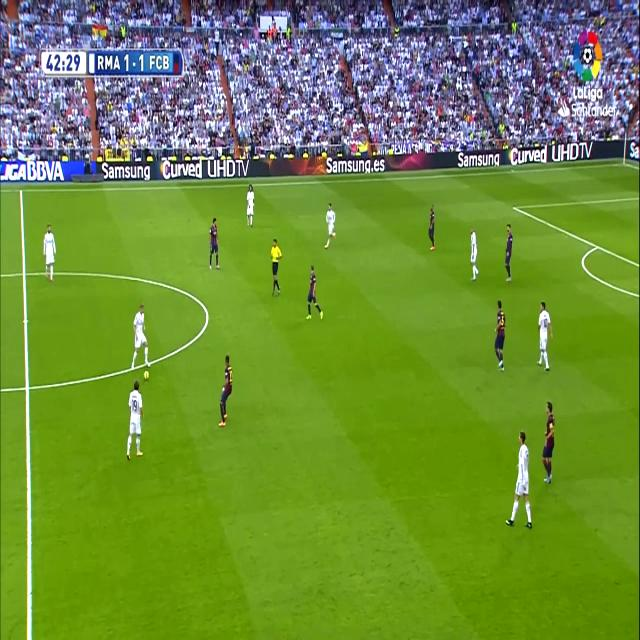corner: (620, 157, 628, 168)
halfcircle_bottom: (20, 371, 34, 403)
halfcircle_top: (18, 261, 30, 285)
midline_top_intersection: (18, 184, 24, 196)
top_arc_area_intersection: (593, 238, 601, 254)
